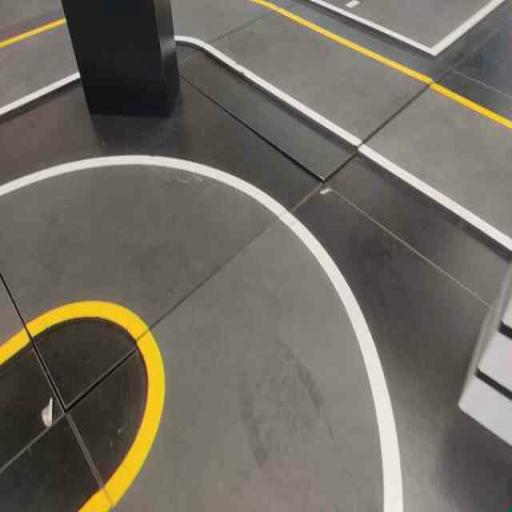left: (65, 183, 456, 511)
